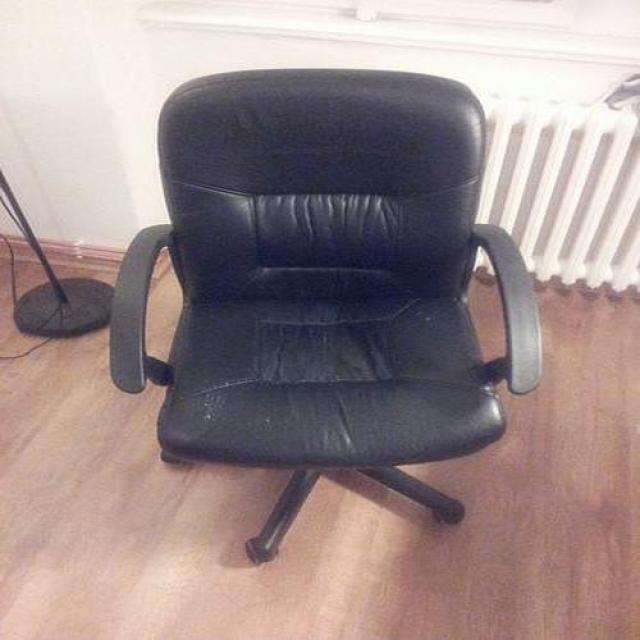swivelchair: (109, 69, 544, 567)
